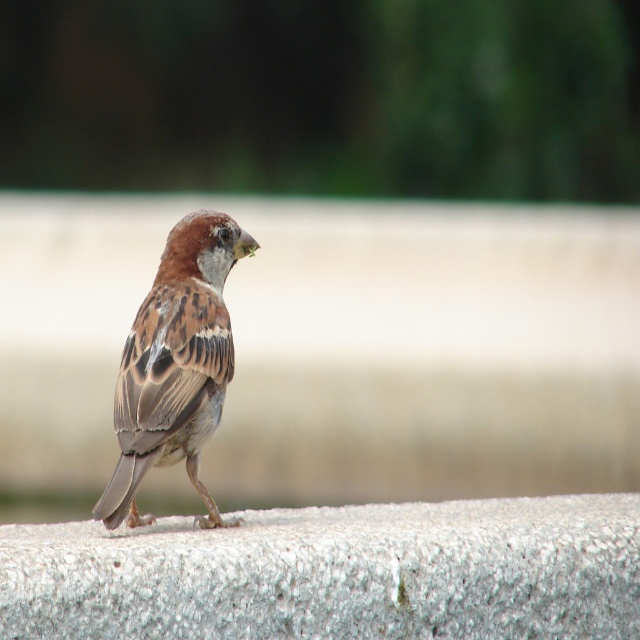Sparrow: (96, 205, 262, 542)
